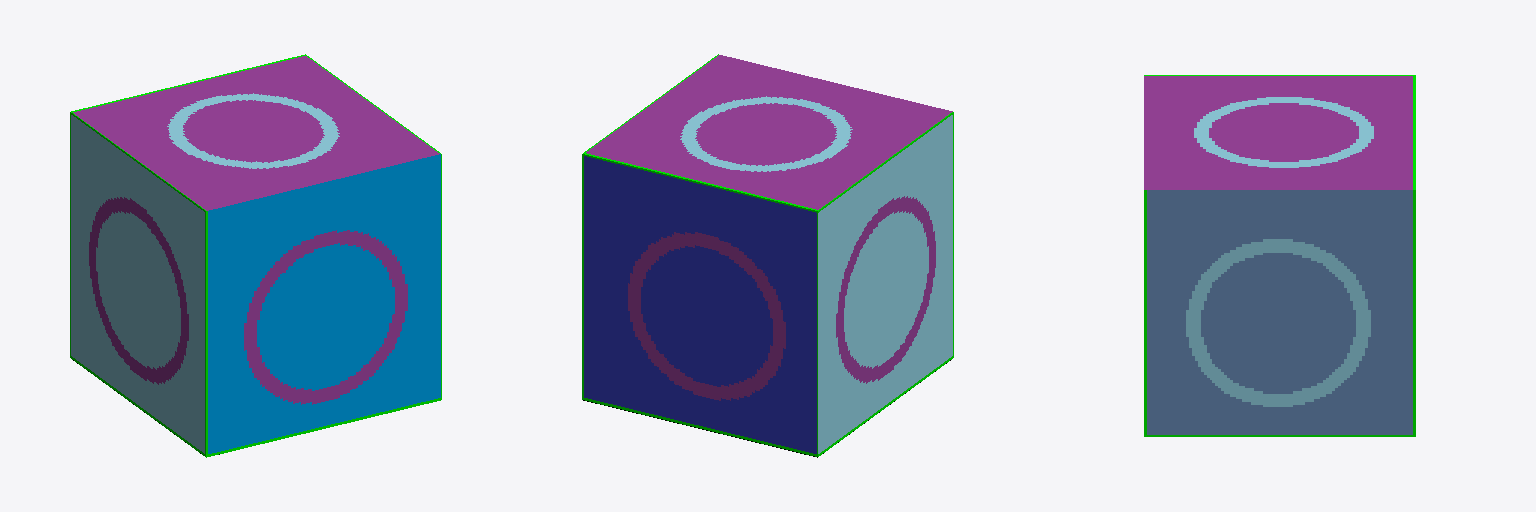
3 views of the same model, side by side, from view 1: azimuth 30°, elevation 25°; view 2: azimuth 150°, elevation 25°; view 3: azimuth 270°, elevation 25° (orthographic).
Parts seen in each view (by area): view 1: CubeCaras); view 2: CubeCaras); view 3: CubeCaras).
Part boxes in pixels (x1,y1,x2,y2): CubeCaras): (70, 54, 441, 457); CubeCaras): (582, 54, 953, 457); CubeCaras): (1144, 75, 1415, 436).
Bounding box in the file's own units: 1 × 1 × 1.
Materials: 1 (1 with a texture image).